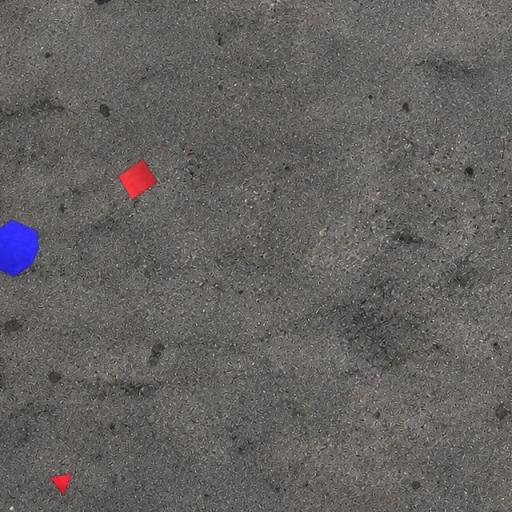RED_SQUARE: (118, 158, 158, 201)
